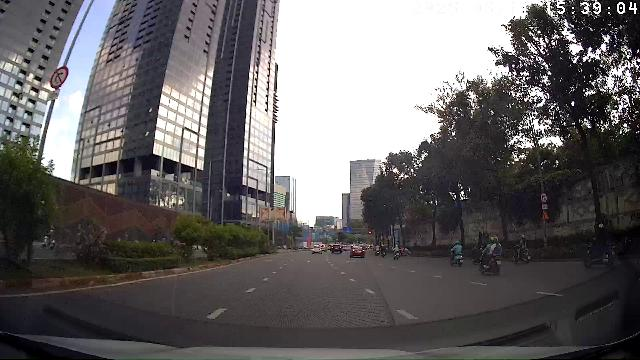103b-cam-oto-re-phai: (50, 66, 68, 88), (540, 192, 548, 202)
